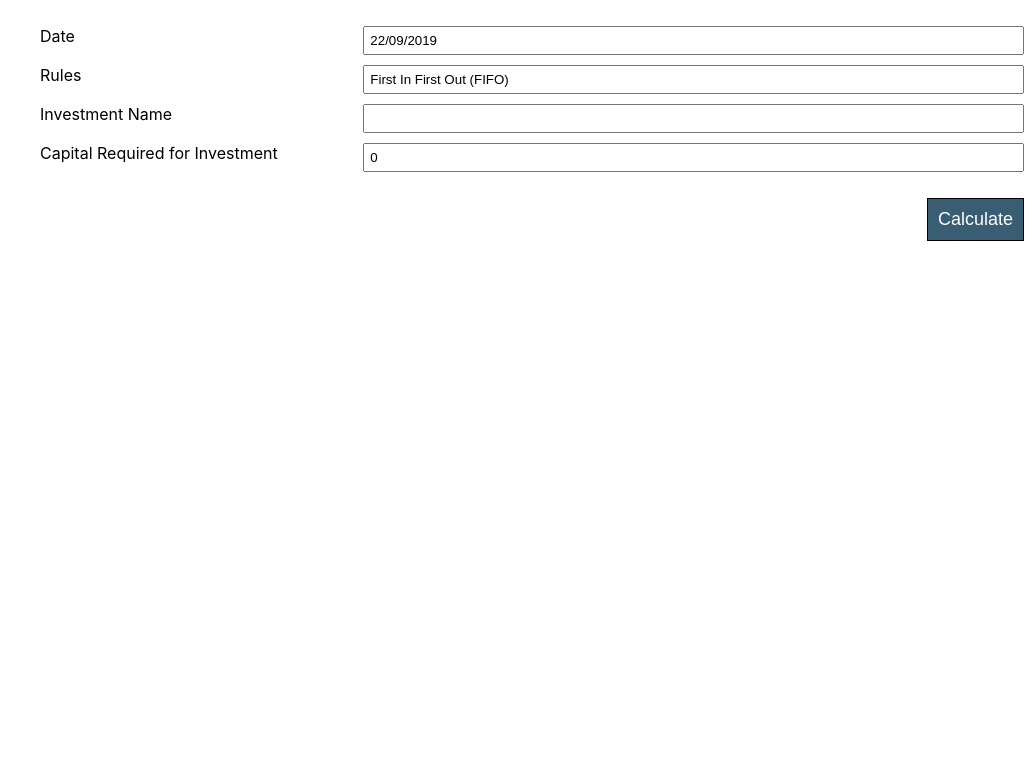
Test: New Call Form › pressing calculate button shows drawdowns
Click the button with test id "calculate-button" at x=976, y=220, box [927,198,1024,241]
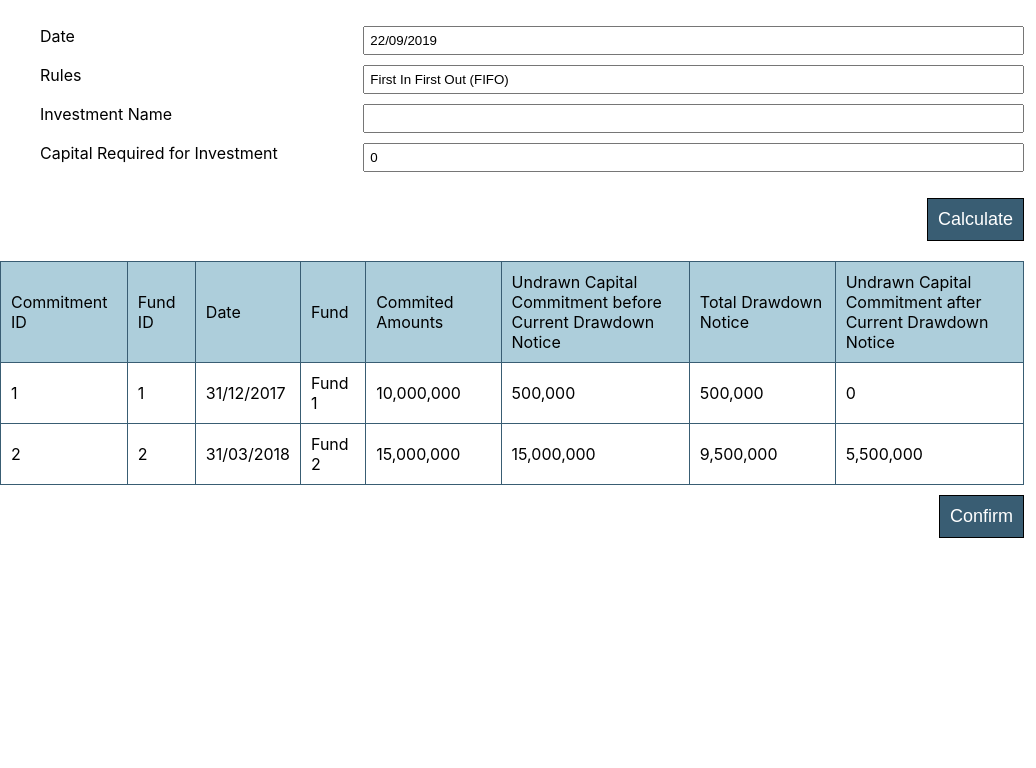
Expected: the table is shown, [0,261,1024,485]
